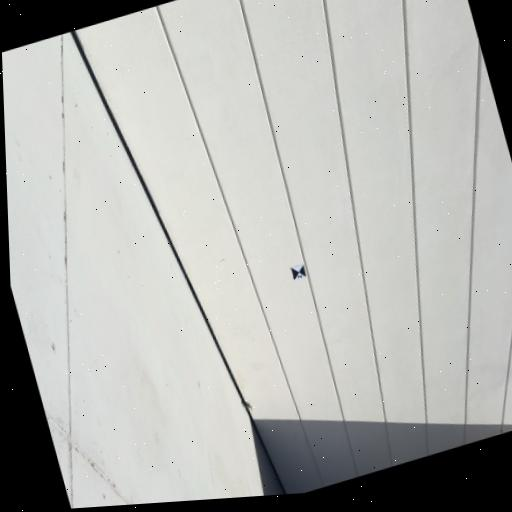target7: (291, 263, 308, 281)
